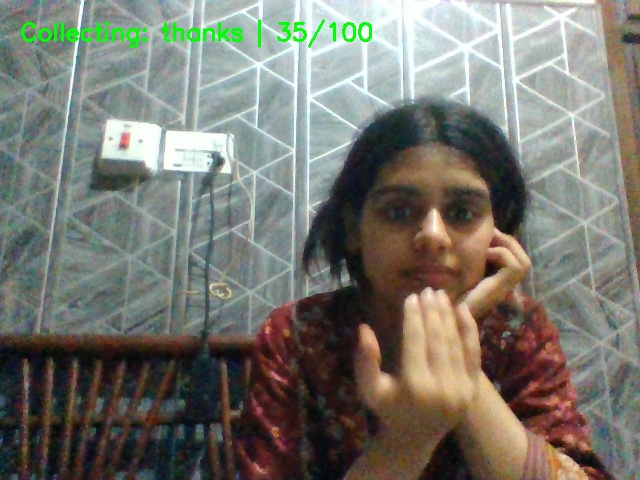thanks: (351, 285, 513, 480)
